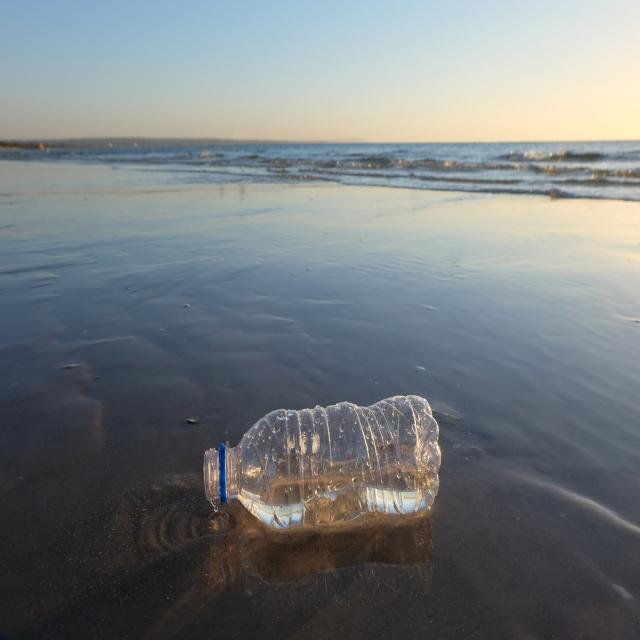bottle: (202, 390, 441, 542)
